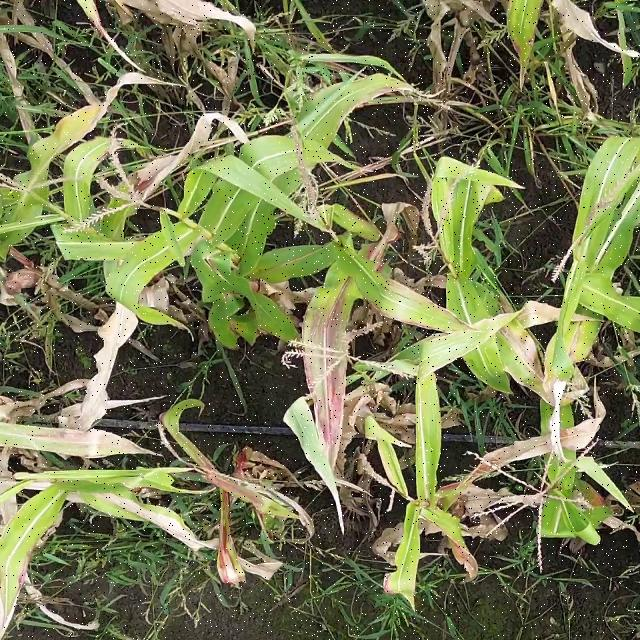northern-leaf-blight: (82, 482, 178, 528), (481, 301, 540, 374), (556, 313, 594, 375), (219, 310, 256, 343)
